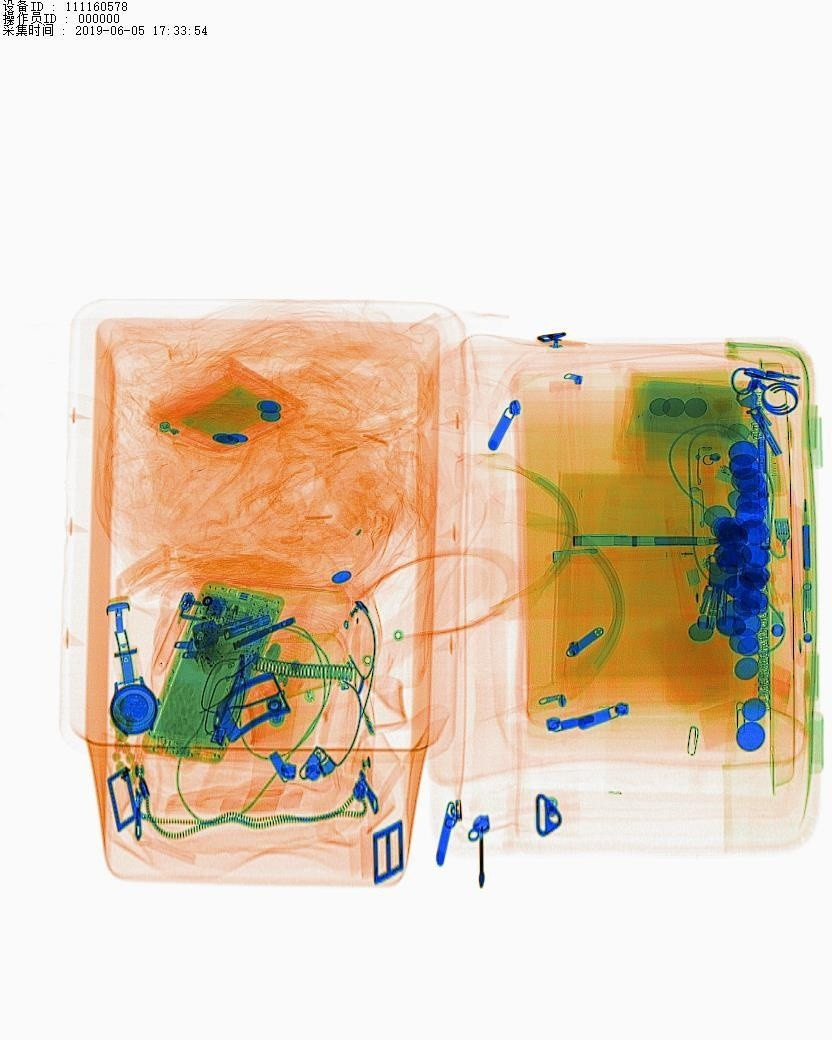NonmetallicFire: (139, 588, 208, 680)
